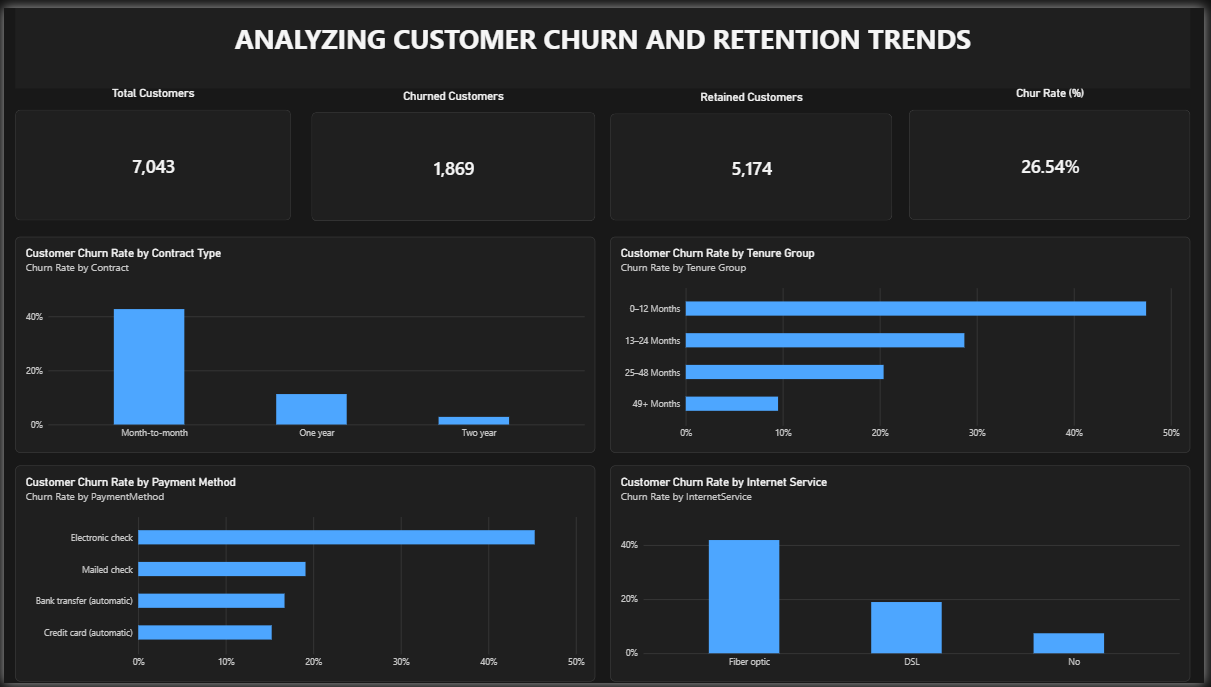

This screenshot's page, from the dashboard's own definition file:
{"tool":"powerbi","page":{"name":"Page 1","canvas":[1920,1080],"ordinal":0},"visuals":[{"type":"cardVisual","title":"Total Customers","fields":{"Data":["Count(Customer_Churn_Raw_Data.customerID)"]},"box":[18.5,126.8,441.2,214],"z":0},{"type":"cardVisual","title":"Churned Customers","fields":{"Data":["CountNonNull(Customer_Churn_Raw_Data.customerID)"]},"box":[491.4,129.4,454.2,211.7],"z":1000},{"type":"cardVisual","title":"Retained Customers","fields":{"Data":["Count(Customer_Churn_Raw_Data.customerID)"]},"box":[969.5,132.1,451.7,208.7],"z":2000},{"type":"cardVisual","title":"Chur Rate (%)","fields":{"Data":["Customer_Churn_Raw_Data.Churn Rate"]},"box":[1447.7,126.8,450.6,213.5],"z":3000},{"type":"columnChart","title":"Customer Churn Rate by Contract Type","fields":{"Category":["Customer_Churn_Raw_Data.Contract"],"Y":["Customer_Churn_Raw_Data.Churn Rate"]},"box":[18.1,365.6,928.4,345.6],"z":4000},{"type":"clusteredBarChart","title":"Customer Churn Rate by Tenure Group","fields":{"Category":["Customer_Churn_Raw_Data.Tenure Group"],"Y":["Customer_Churn_Raw_Data.Churn Rate"]},"box":[970,365.6,928.4,345.6],"z":5000},{"type":"clusteredBarChart","title":"Customer Churn Rate by Payment Method","fields":{"Category":["Customer_Churn_Raw_Data.PaymentMethod"],"Y":["Customer_Churn_Raw_Data.Churn Rate"]},"box":[18.1,732.9,928.4,345.6],"z":6000},{"type":"clusteredColumnChart","title":"Customer Churn Rate by Internet Service","fields":{"Category":["Customer_Churn_Raw_Data.InternetService"],"Y":["Customer_Churn_Raw_Data.Churn Rate"]},"box":[970,732.9,928.4,345.6],"z":7000},{"type":"textbox","box":[18.1,0,1880.2,128.5],"z":8000}]}

Visuals, with their boxes in screenshot pixels (x1, y1, x2, y2), scaled from the page's 1920x1080 canvas onto the 1211x687 screenshot:
"Total Customers" cardVisual: 12, 81, 290, 217
"Churned Customers" cardVisual: 310, 82, 596, 217
"Retained Customers" cardVisual: 611, 84, 896, 217
"Chur Rate (%)" cardVisual: 913, 81, 1197, 216
"Customer Churn Rate by Contract Type" columnChart: 11, 233, 597, 452
"Customer Churn Rate by Tenure Group" clusteredBarChart: 612, 233, 1197, 452
"Customer Churn Rate by Payment Method" clusteredBarChart: 11, 466, 597, 686
"Customer Churn Rate by Internet Service" clusteredColumnChart: 612, 466, 1197, 686
textbox: 11, 0, 1197, 82
